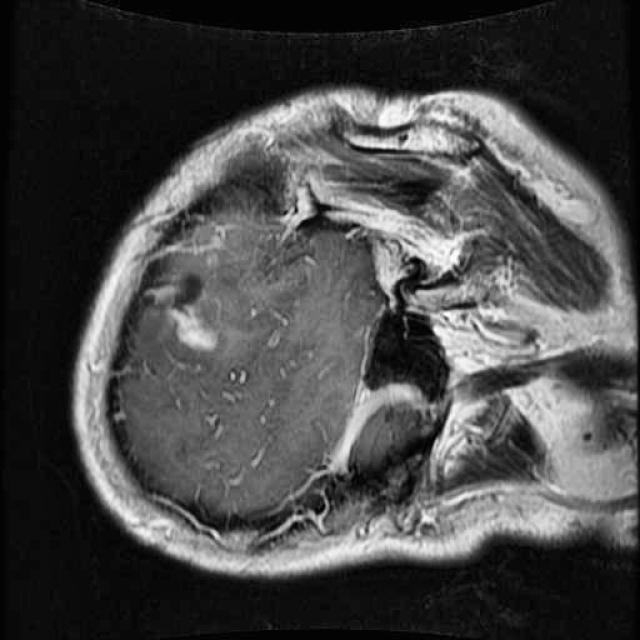Non-Tumor: (163, 284, 230, 365)
